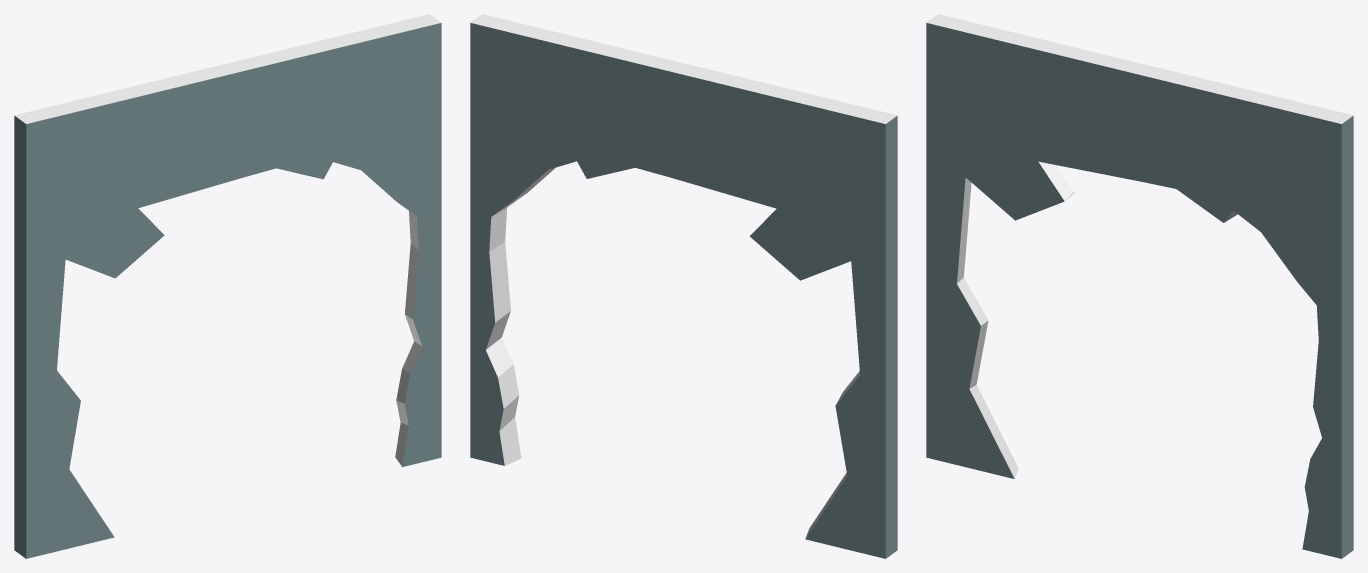
File: Mod_Wall_08_1x1_Broken.fbx
The picture shows the model from 3 angles, left to right: view 1: azimuth 30°, elevation 25°; view 2: azimuth 150°, elevation 25°; view 3: azimuth 330°, elevation 25°; orthographic projection.
Parts seen in each view (by area): view 1: Mod_Wall_08_1x1_Broken; view 2: Mod_Wall_08_1x1_Broken; view 3: Mod_Wall_08_1x1_Broken.
Boxes of the visible parts, x1,y1,x2,y2 form: Mod_Wall_08_1x1_Broken: [14, 14, 441, 558]; Mod_Wall_08_1x1_Broken: [470, 14, 897, 558]; Mod_Wall_08_1x1_Broken: [926, 14, 1353, 558].
Size of the model in its own units: 300 by 300 by 15.
